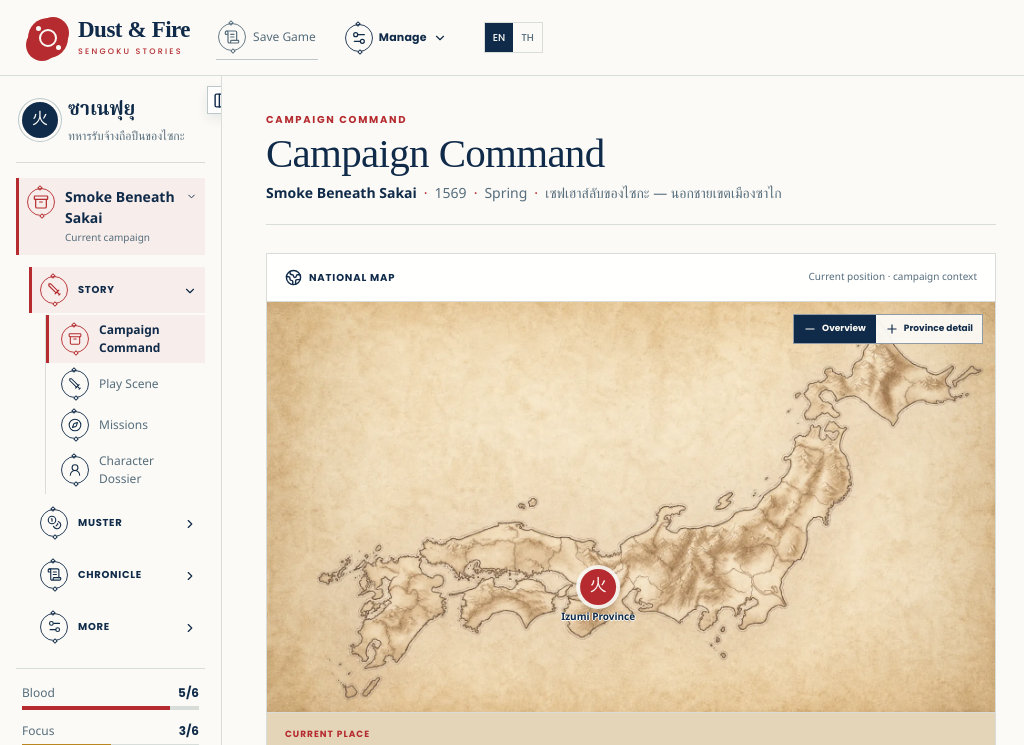
UI Preview click flow › renders Play Scene as a reading pane with a decision sidebar
Click the button "Play Scene". click: (126, 384)
box: [46,364,205,404]
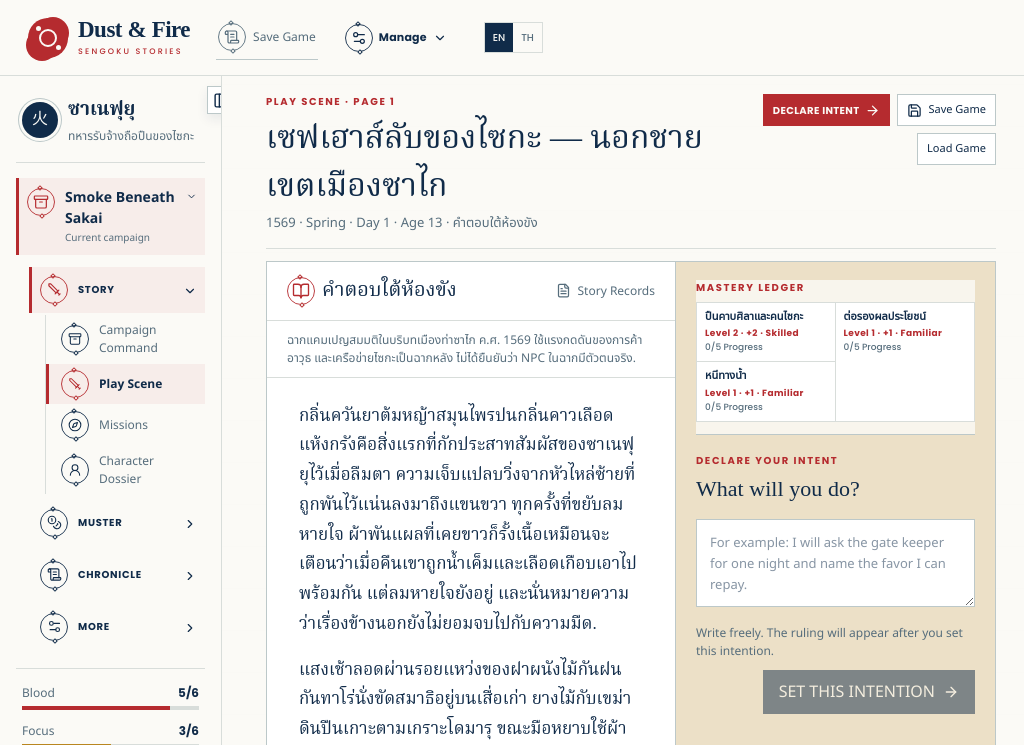
Result: the element named "Mastery progress" is shown at [696,280,975,435]
Result: the element that starts with "DECLARE YOUR INTENT" is shown at [696,435,975,714]
